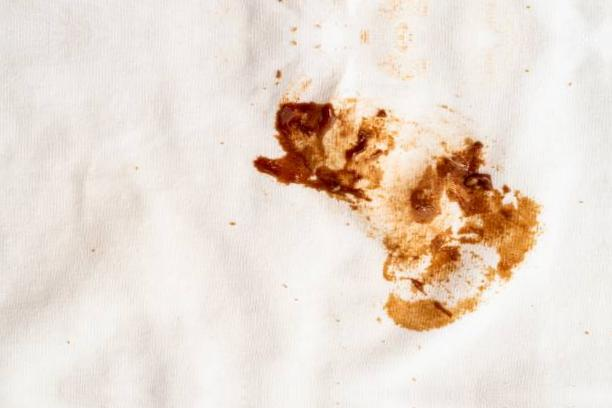stain: (244, 92, 545, 338)
